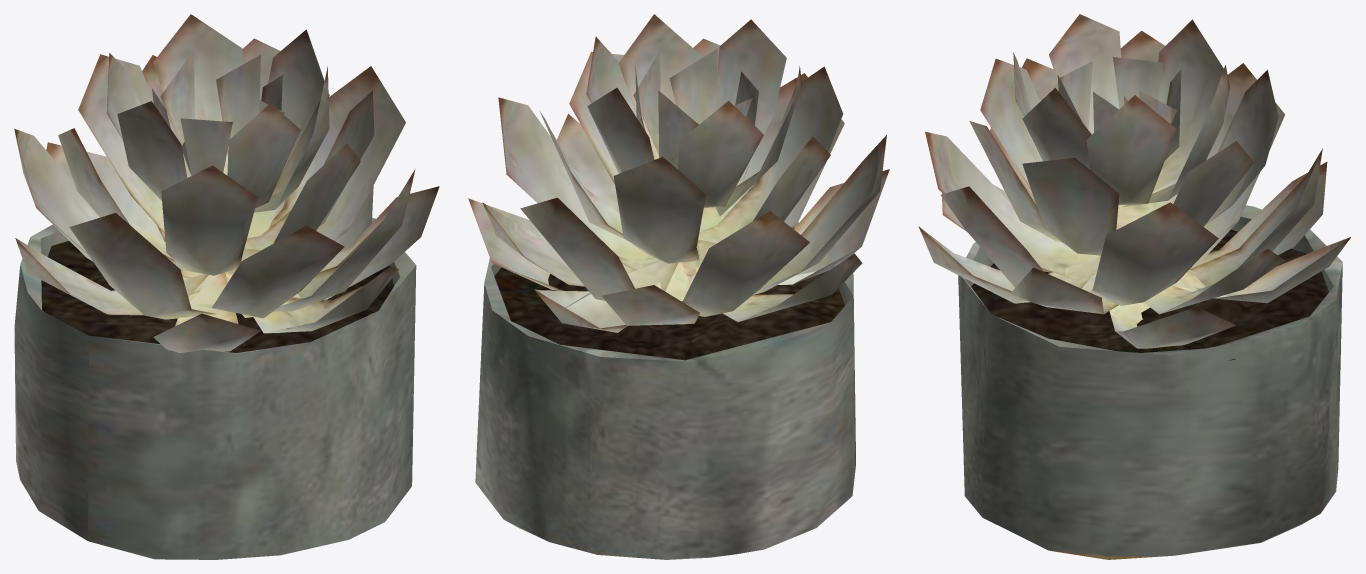
File: Plant0018.obj
The picture shows the model from 3 angles, left to right: view 1: azimuth 30°, elevation 25°; view 2: azimuth 150°, elevation 25°; view 3: azimuth 270°, elevation 25°; orthographic projection. The views are drawn at different scales.
Bounding box in the file's own units: 0.193 × 0.213 × 0.196.
Materials: 1 (1 with a texture image).
